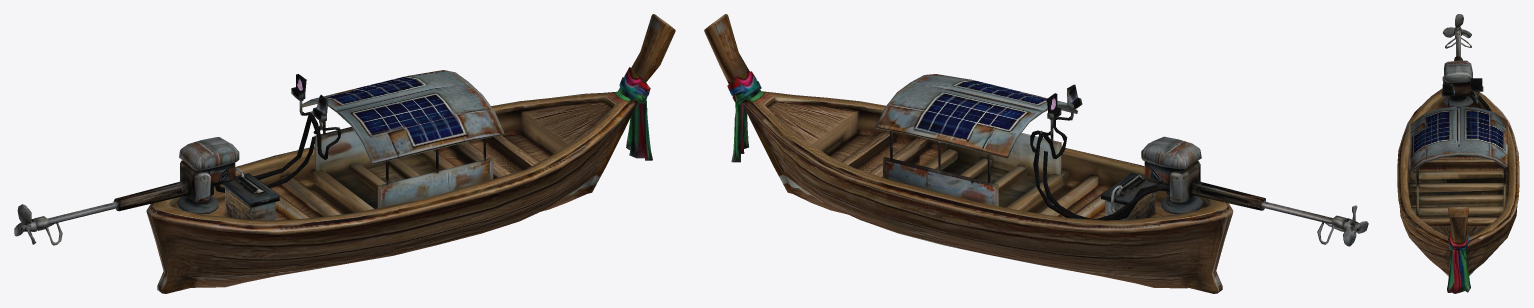
File: longtail_boat.glb
3 renders of one model, left to right at view 1: azimuth 30°, elevation 25°; view 2: azimuth 150°, elevation 25°; view 3: azimuth 270°, elevation 25°, orthographic. The views are drawn at different scales.
Parts seen in each view (by area): view 1: Body; view 2: Body; view 3: Body.
Boxes of the visible parts, bbox=[...] form: Body: bbox=[14, 14, 675, 293]; Body: bbox=[704, 14, 1368, 293]; Body: bbox=[1397, 14, 1519, 293].
Size of the model in its own units: 10 by 2.68 by 2.37.
Materials: 1 (1 with a texture image).
